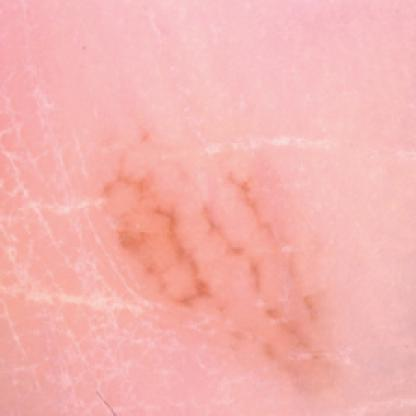benign: (98, 138, 355, 372)
